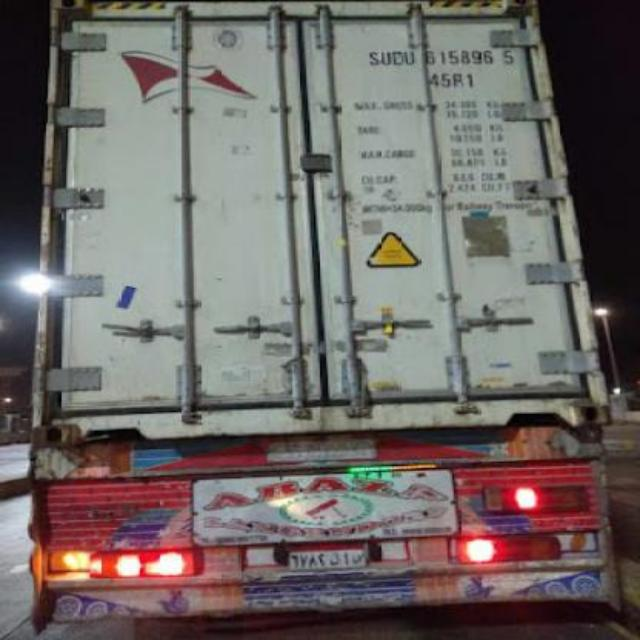1: (436, 46, 449, 70)
5: (500, 50, 520, 66), (448, 46, 460, 66)
6: (482, 47, 496, 67), (424, 50, 440, 66)
8: (458, 50, 472, 66)
9: (471, 50, 484, 66)
D: (388, 50, 406, 66)
S: (368, 50, 384, 66)
U: (402, 48, 418, 68), (376, 50, 394, 66)
